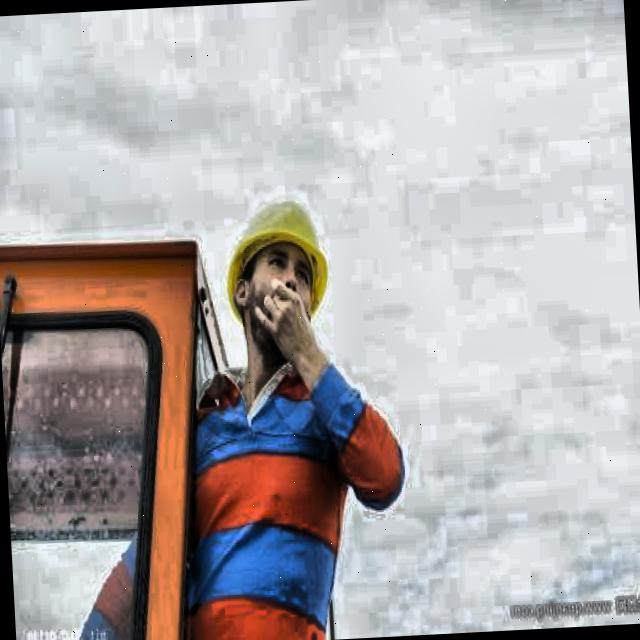helmet: (220, 188, 332, 366)
